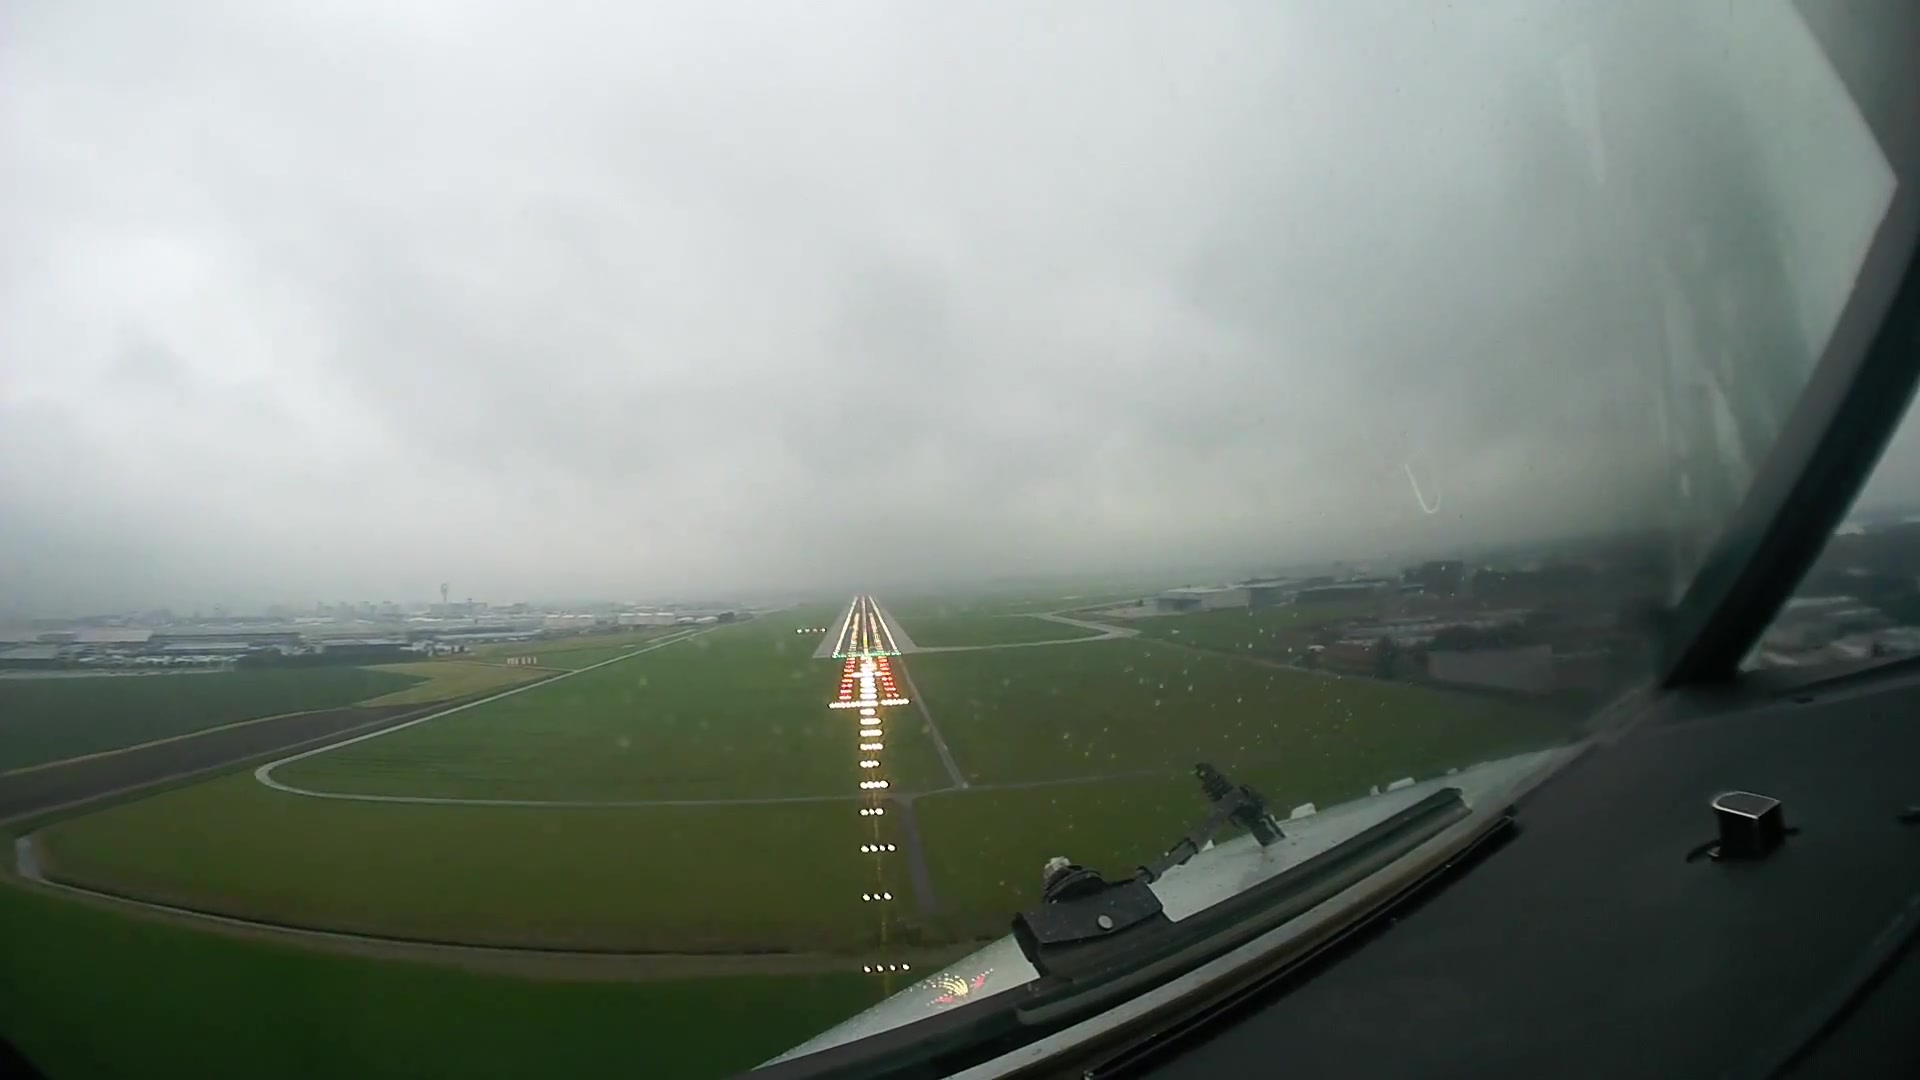runway: (822, 591, 909, 659)
